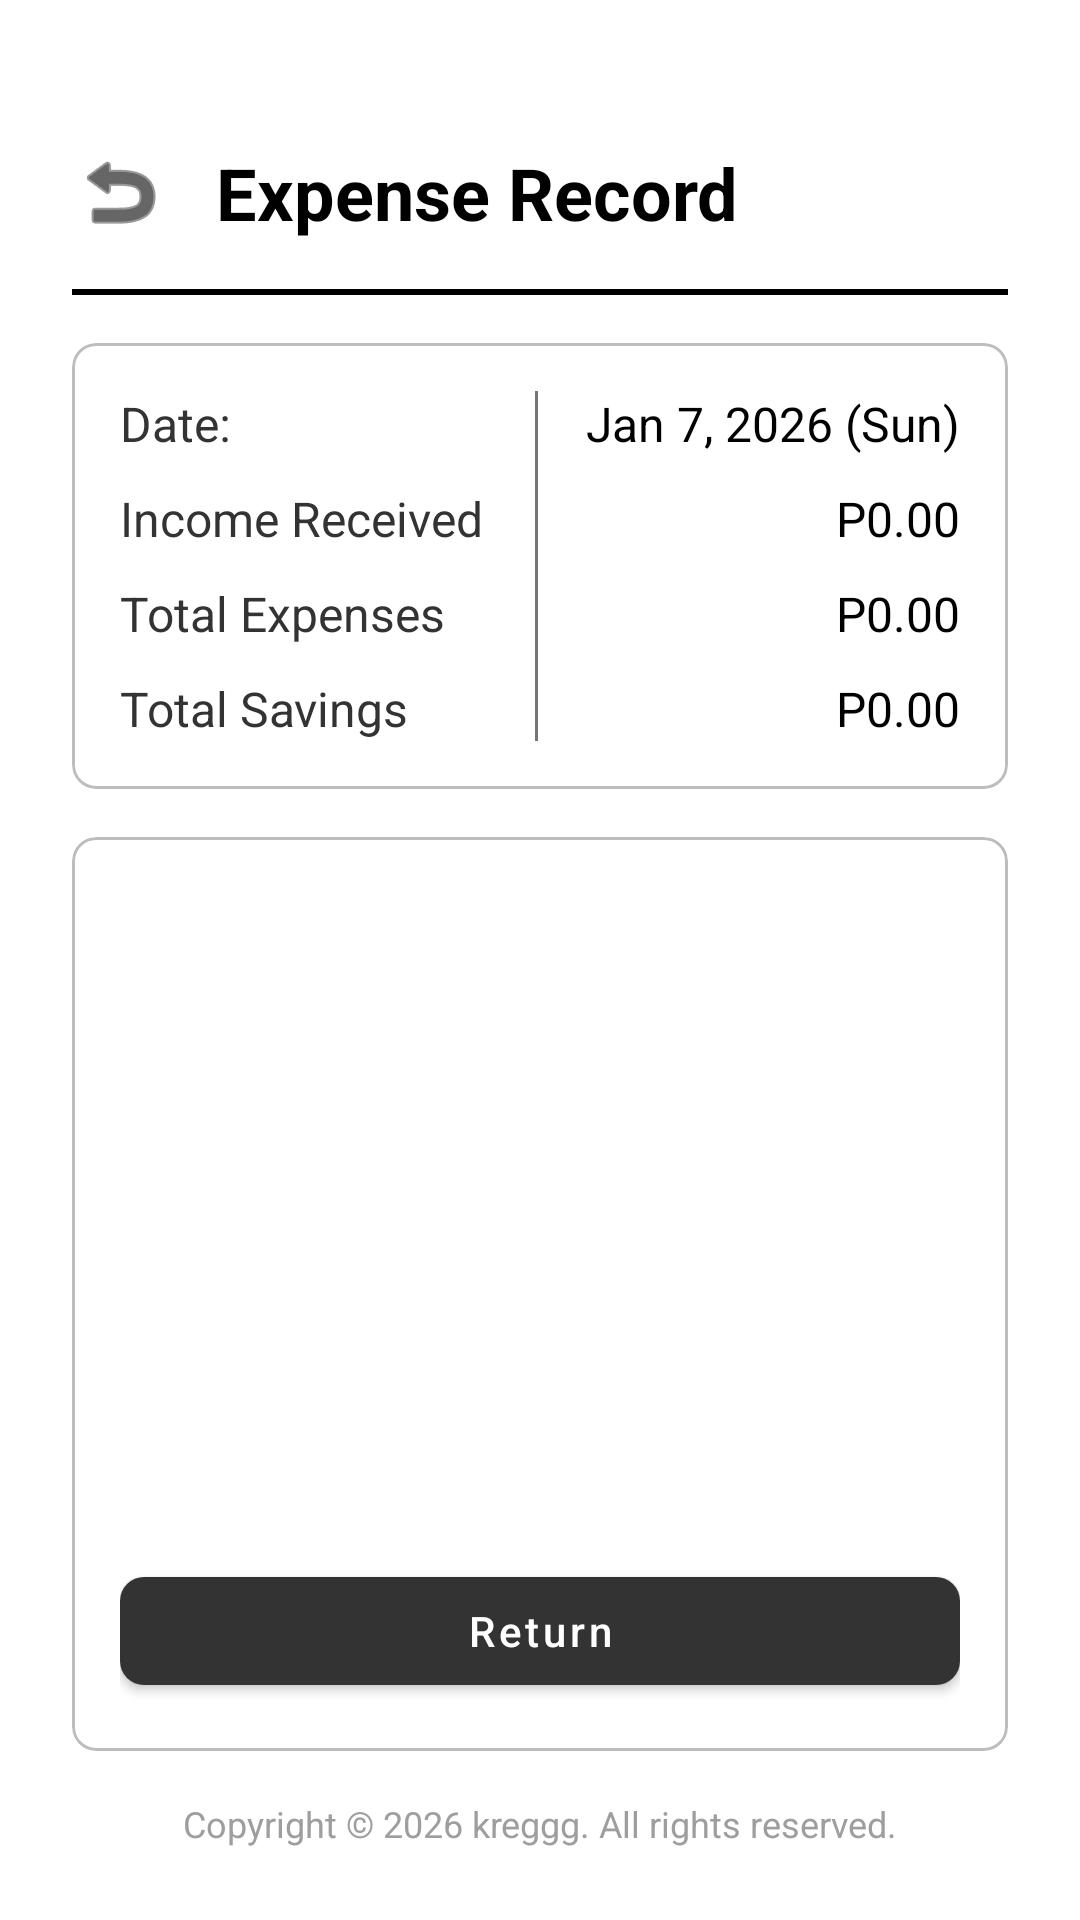

Named icons in this screenshot (1080 × 1920) and their centers, point (x, y):
revert: point (121, 192)
